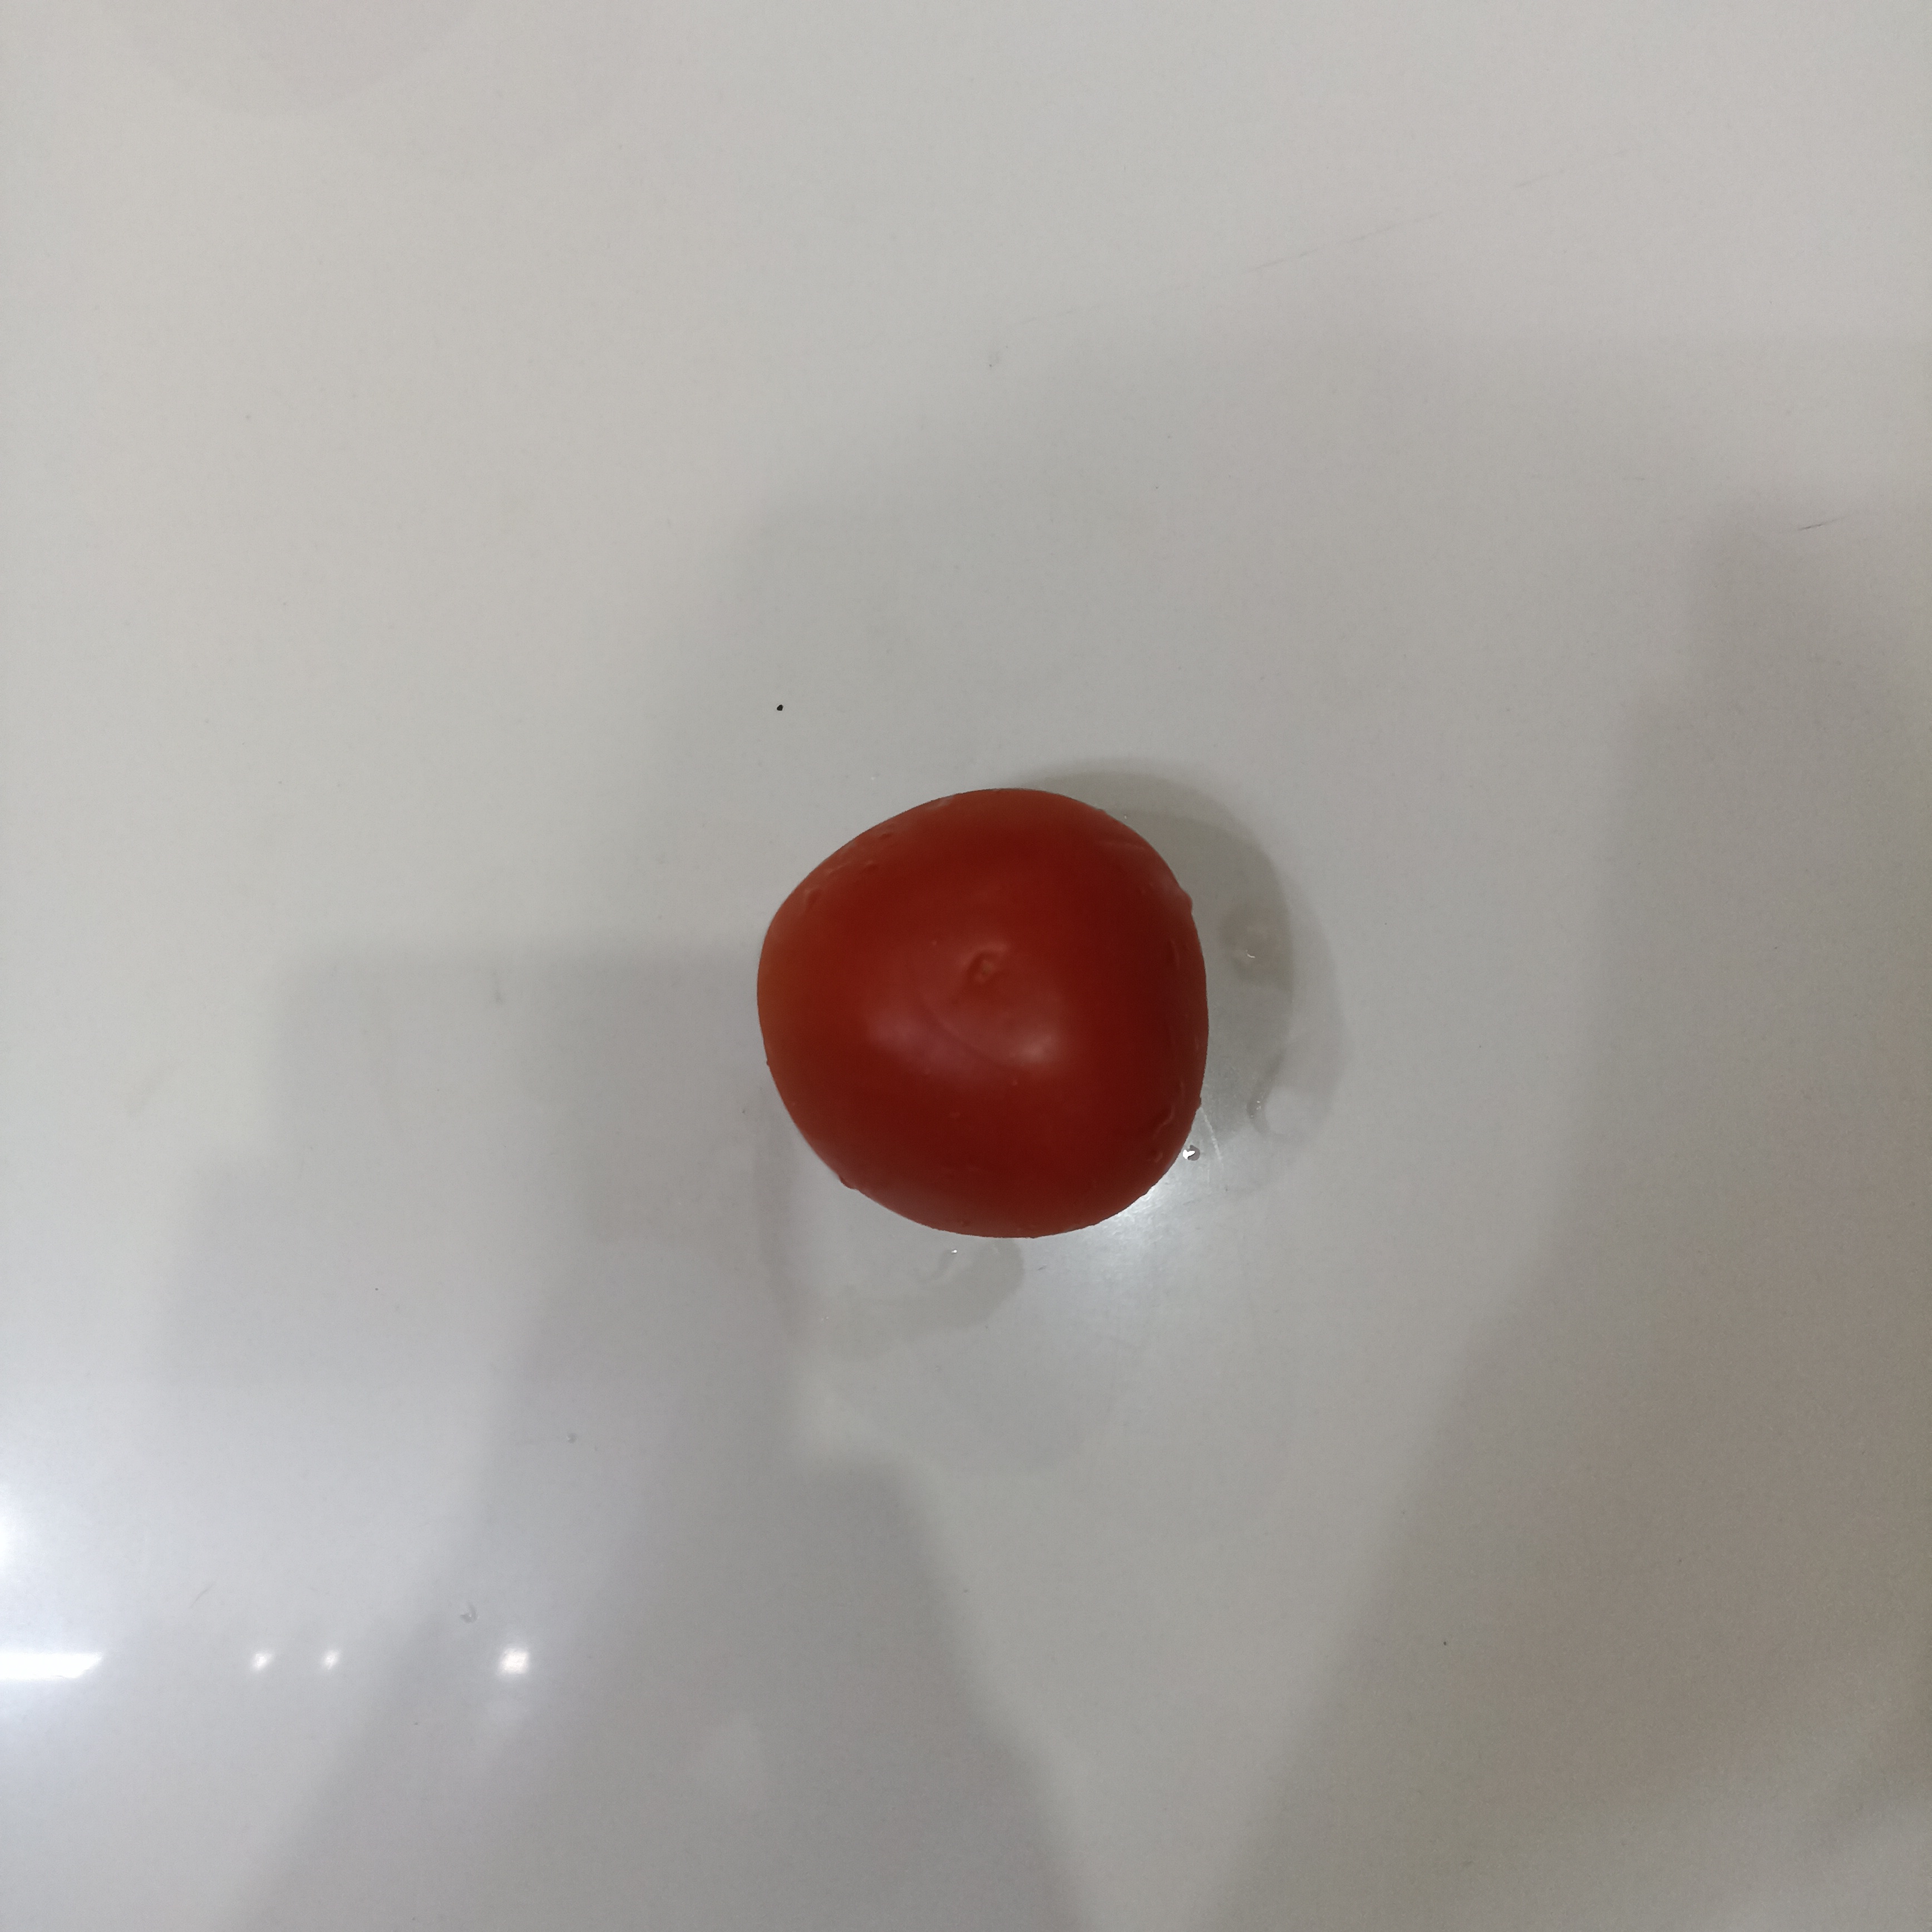Ca chua: (752, 795, 1213, 1237)
